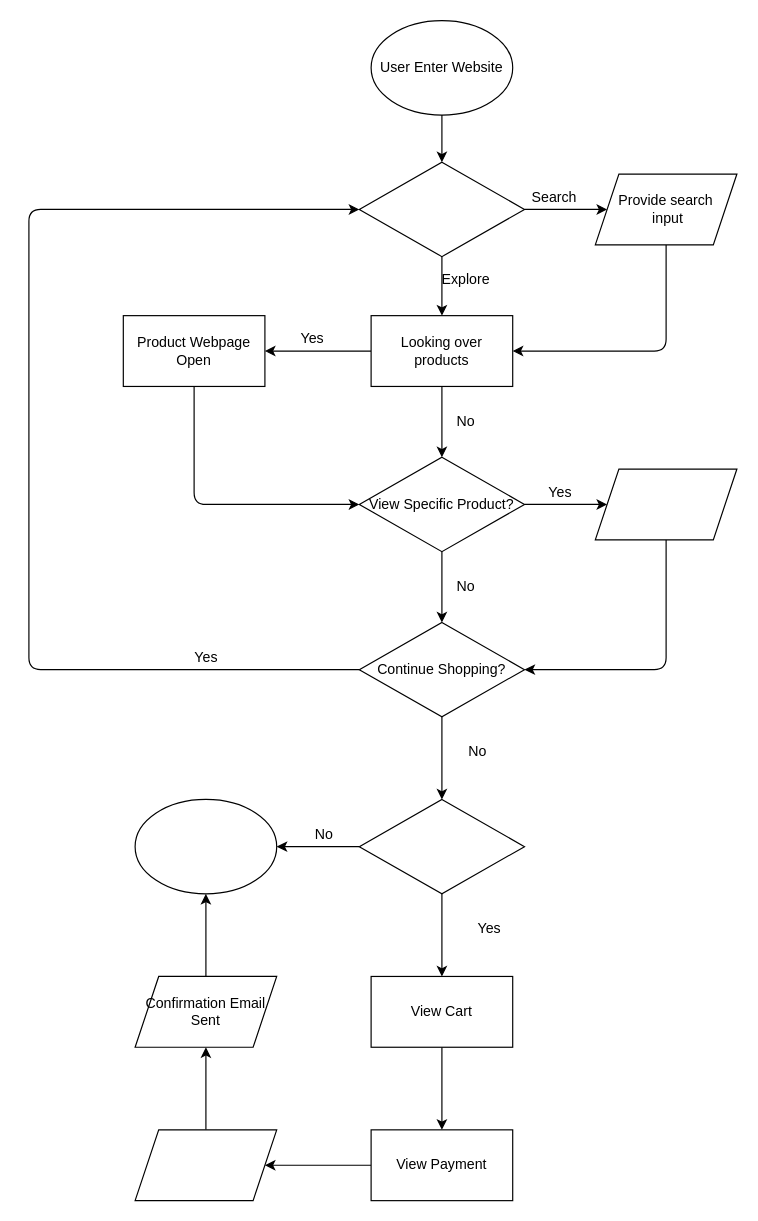
This 758x1221 diagram has some shape labels left out. The centre of each missing label's shape, as x and y in pixels:
"Added to Cart Confirmation" goes at point (665, 504).
"Checkout?" goes at point (441, 846).
"Input Payment" goes at point (205, 1165).
"Leave Website" goes at point (205, 846).
"Search or Explore" goes at point (441, 209).
